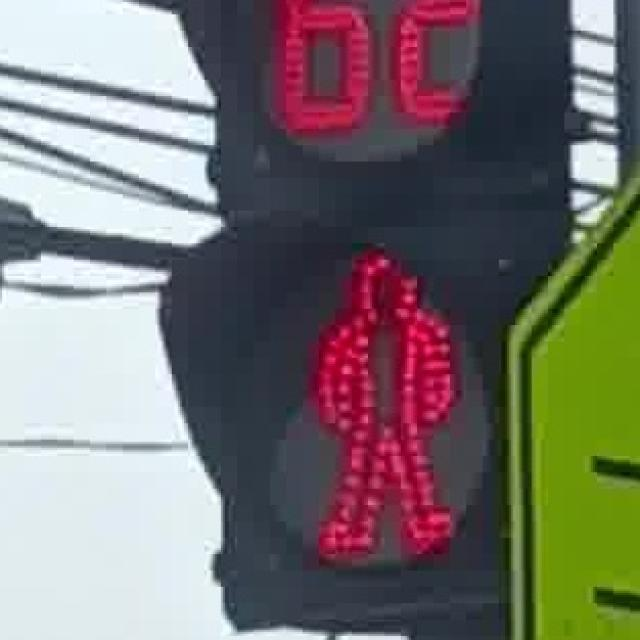red-crossing: (283, 237, 477, 562)
